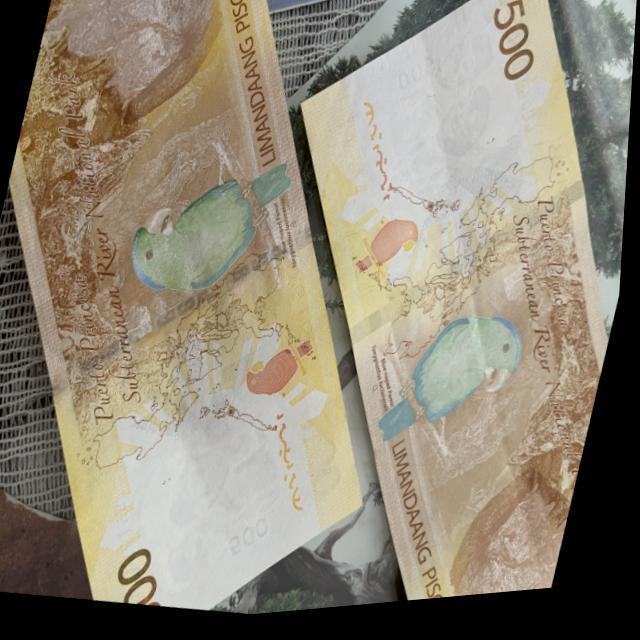500_big_parrot: (125, 142, 301, 325), (382, 296, 536, 475)
500_parrot_watermark: (246, 332, 322, 417), (355, 211, 432, 292)
value_watermark: (228, 507, 288, 574), (392, 55, 436, 107)
watermark: (139, 407, 306, 606), (370, 32, 527, 217)
